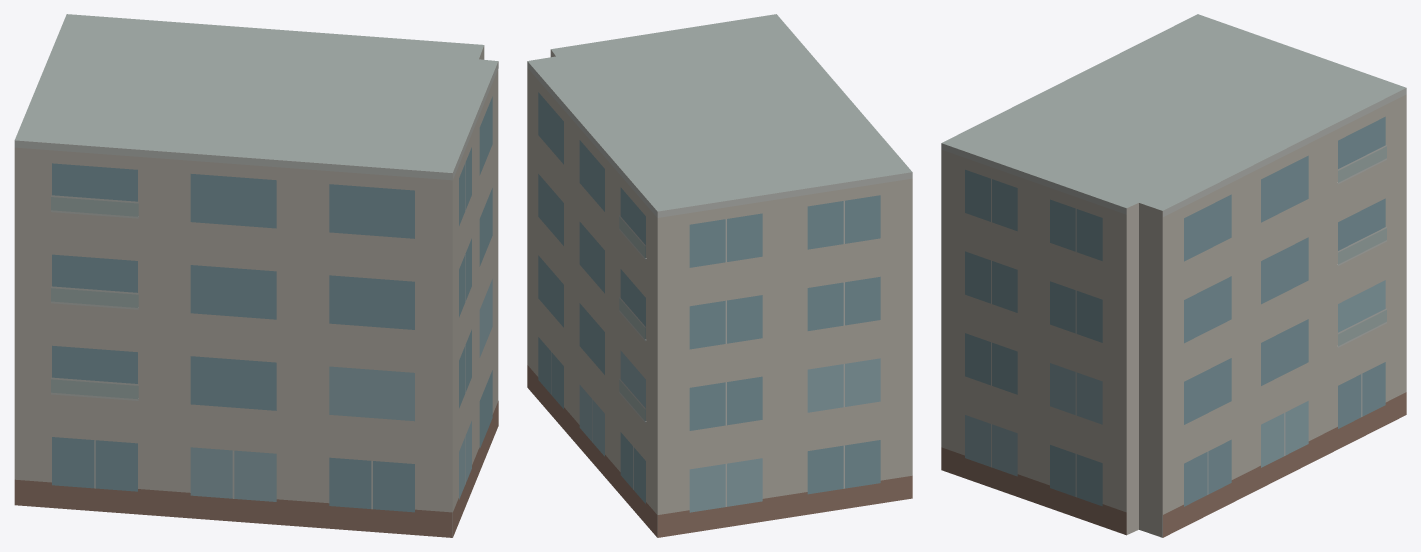
Rendered from survey-upis-32693455.glb.
The picture shows the model from 3 angles, left to right: view 1: azimuth 30°, elevation 25°; view 2: azimuth 150°, elevation 25°; view 3: azimuth 270°, elevation 25°; orthographic projection. The views are drawn at different scales.
Visible parts, largest first — view 1: survey-upis-32693455.tmp; view 2: survey-upis-32693455.tmp; view 3: survey-upis-32693455.tmp.
Boxes of the visible parts, bbox=[...] form: survey-upis-32693455.tmp: bbox=[14, 14, 498, 537]; survey-upis-32693455.tmp: bbox=[527, 14, 912, 537]; survey-upis-32693455.tmp: bbox=[941, 14, 1406, 537].
Size of the model in its own units: 16.03 by 12.4 by 16.
